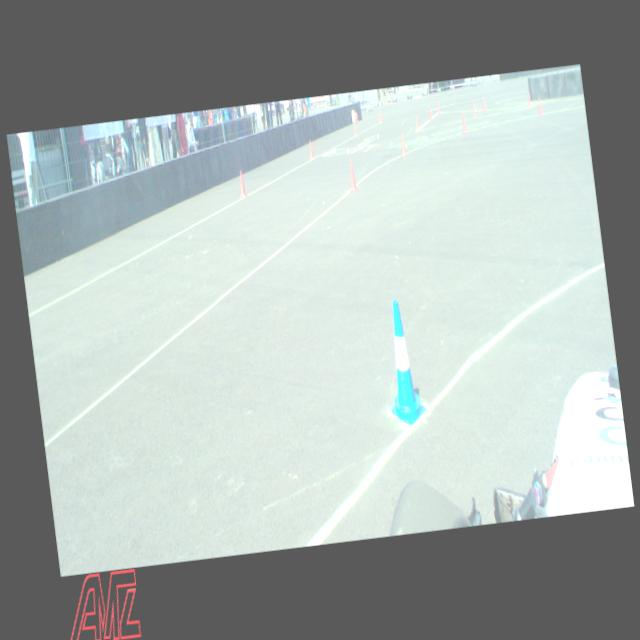blue_cone: (378, 296, 428, 425)
